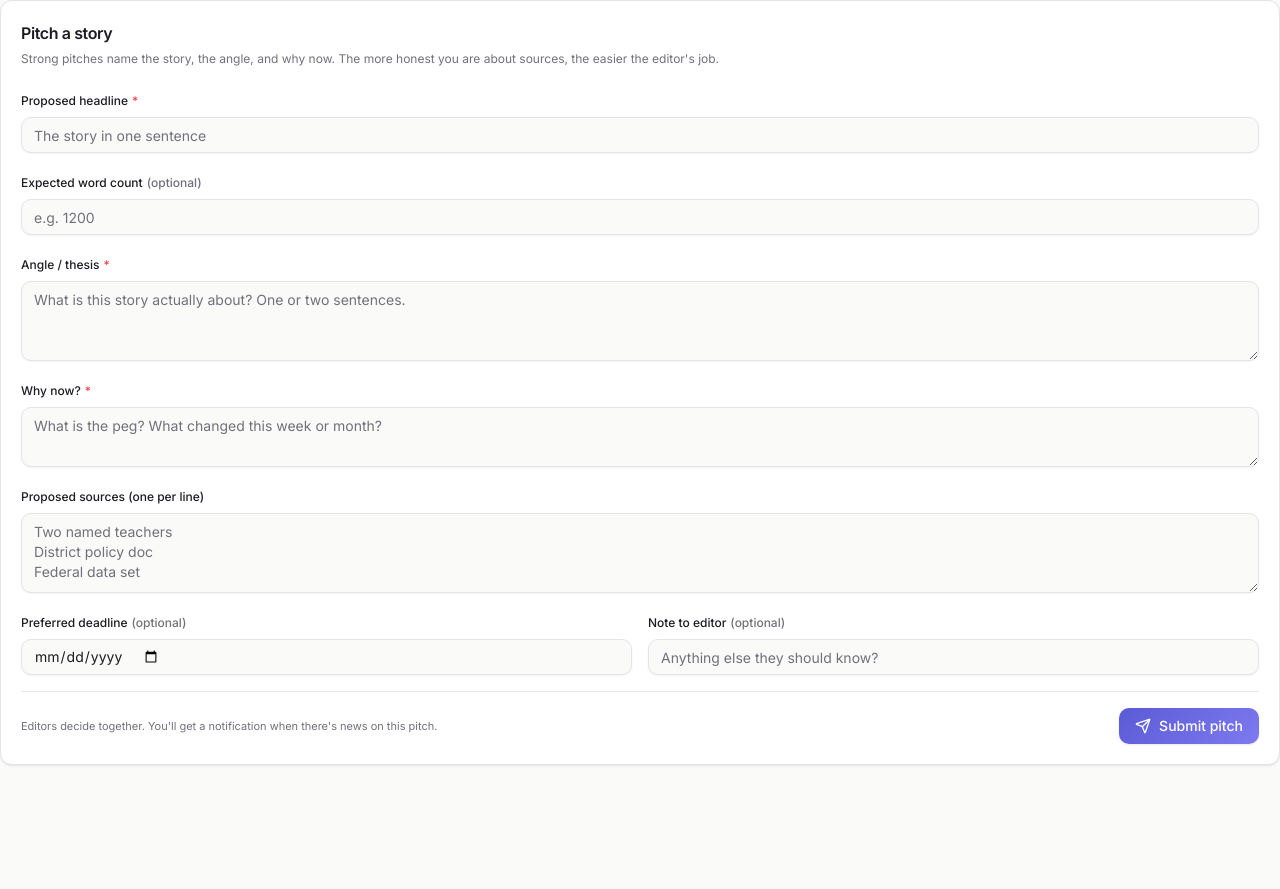
Test case: PitchForm › explains what's missing instead of silently blocking submit
Click the button "Submit pitch" at (1189, 726), box [1119,708,1259,744]
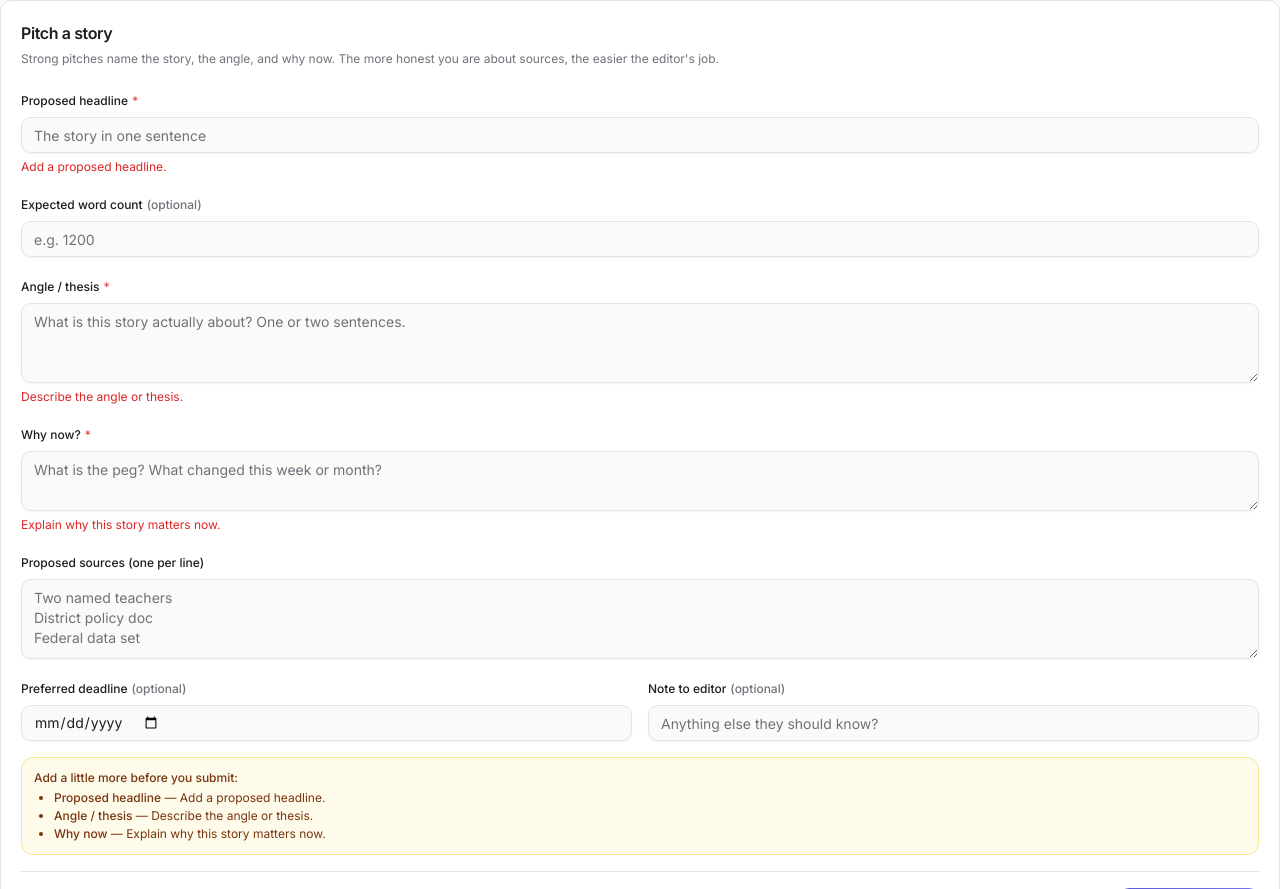
Now the text "Add a little more before you submit:" is shown, box [34,770,238,785]
Type "A useful student newsroom pitch" into the field labelled "Proposed headline *" at (640, 135), box [21,117,1259,153]
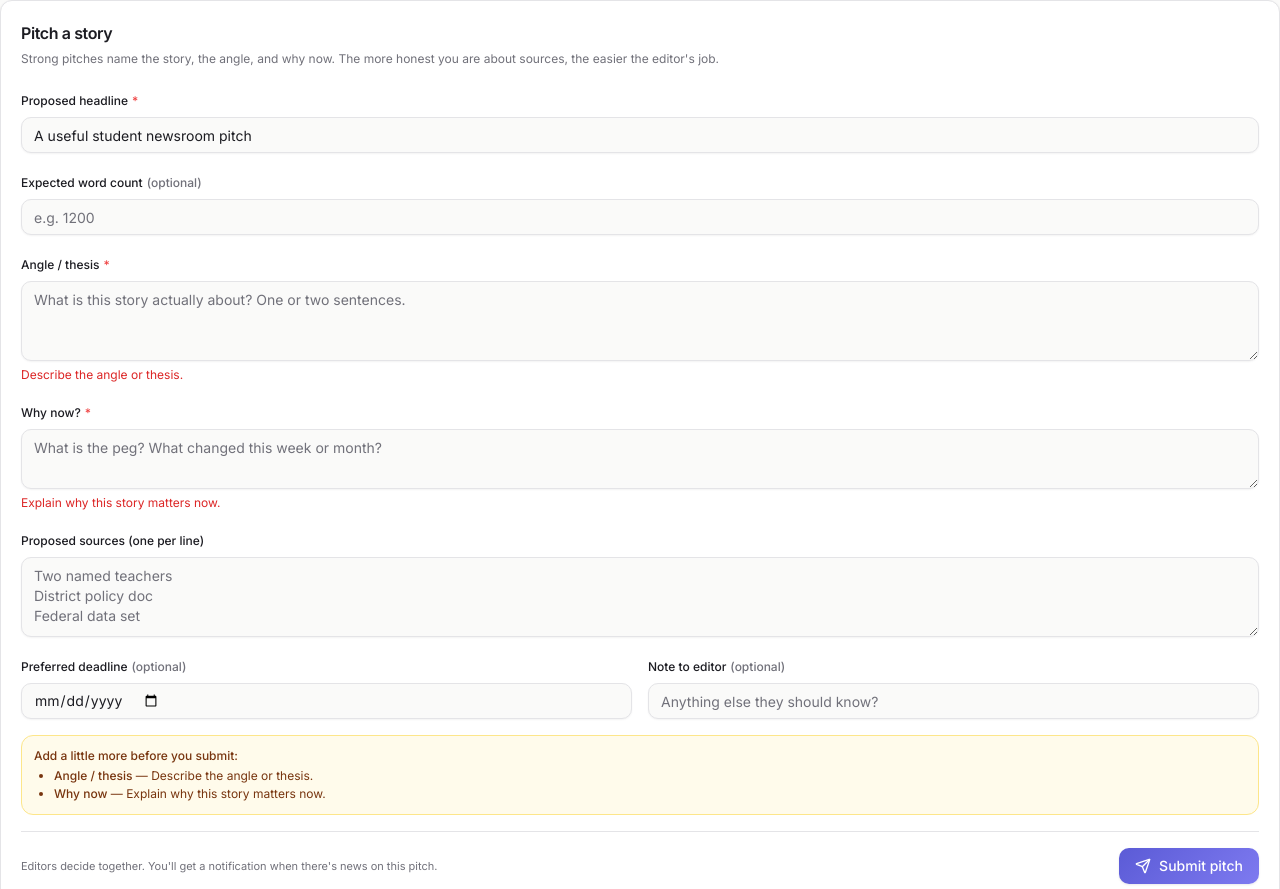
Type "This pitch explains the core reporting angle." into the text box labelled "Angle / thesis *" at (640, 321), box [21,281,1259,361]
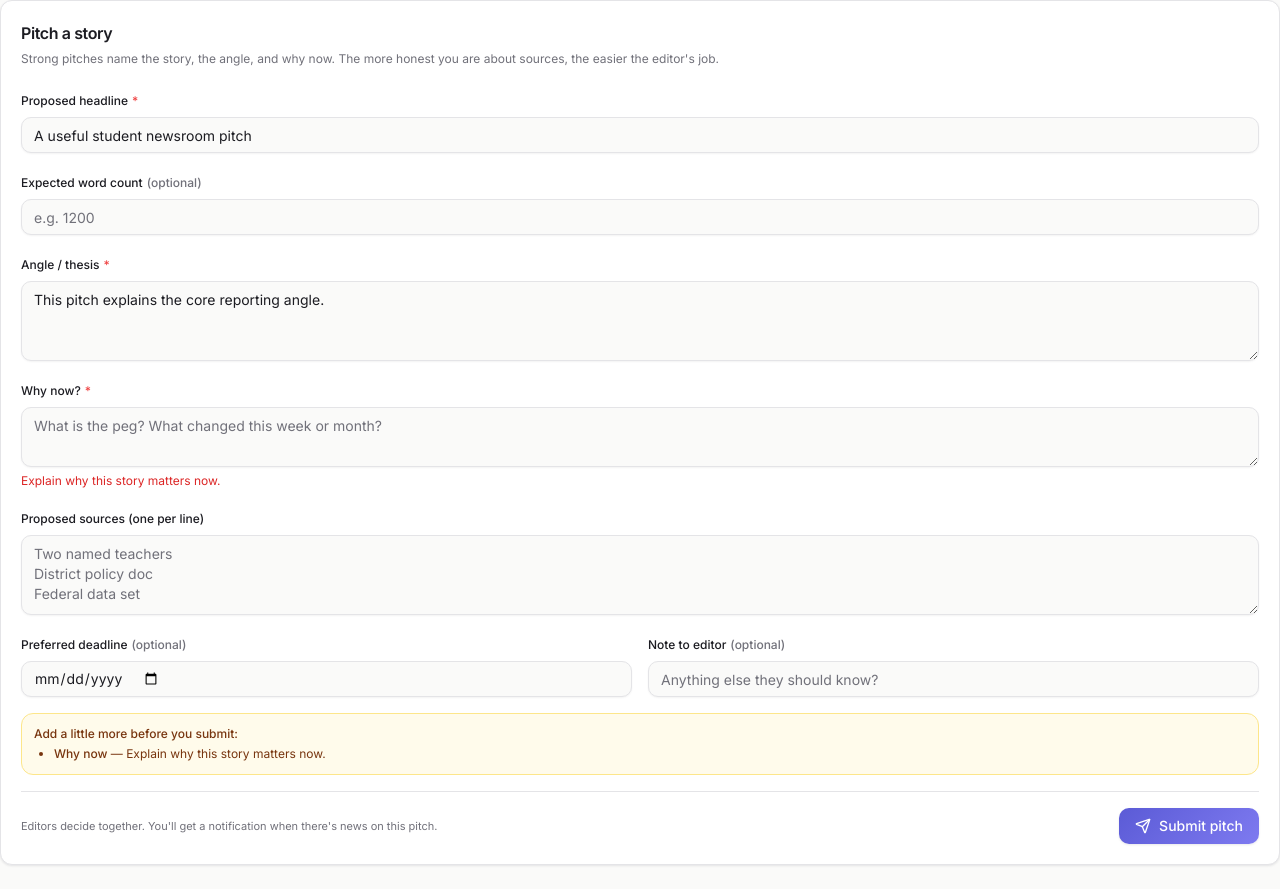
Type "The timing matters this week." into the text box labelled "Why now? *" at (640, 437), box [21,407,1259,467]
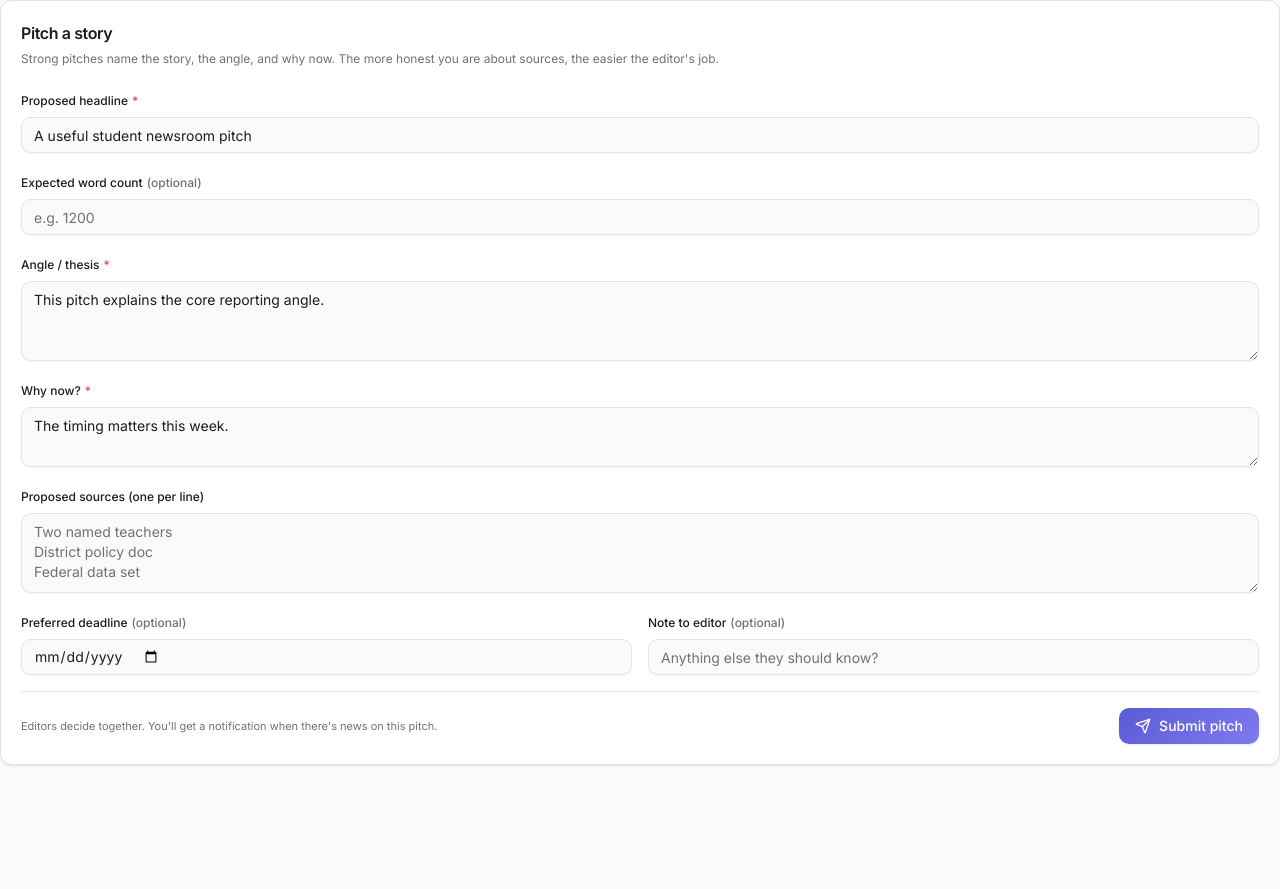
Now the text "Add a little more before you submit" is gone
